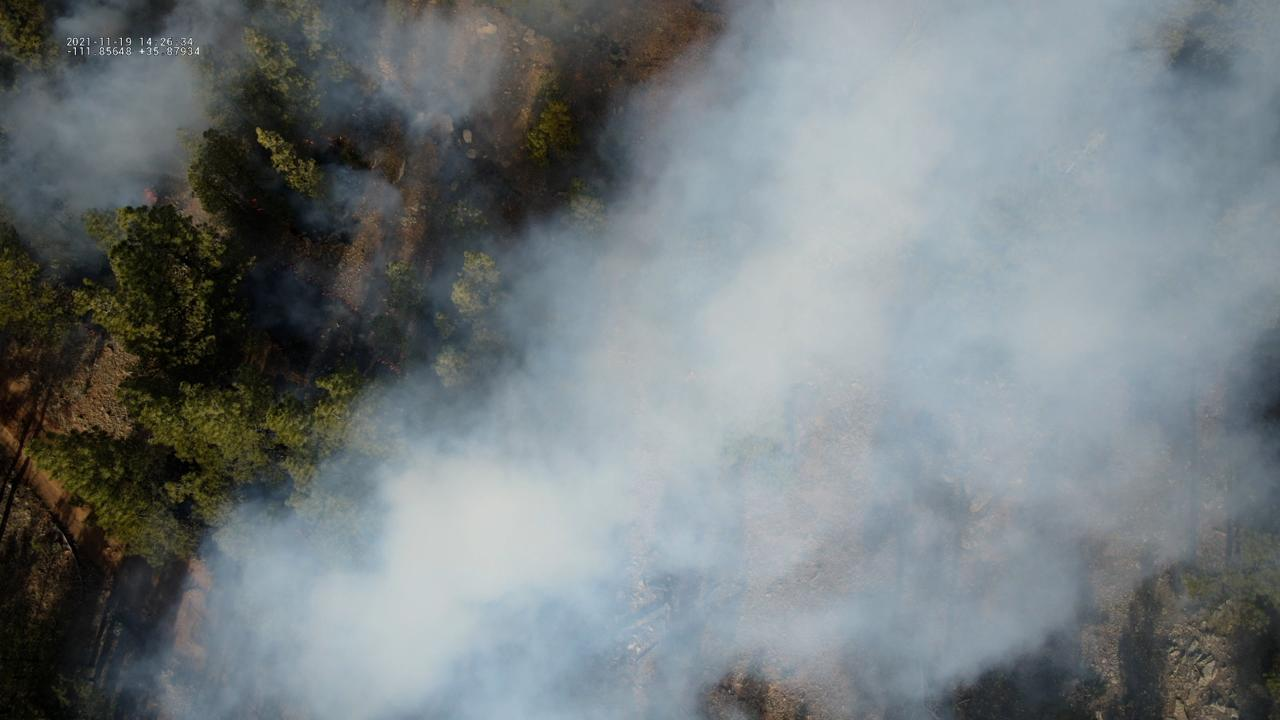fire: (140, 185, 158, 206), (302, 137, 315, 145), (250, 198, 258, 204), (255, 207, 267, 211)
smoke: (0, 0, 1280, 720)
